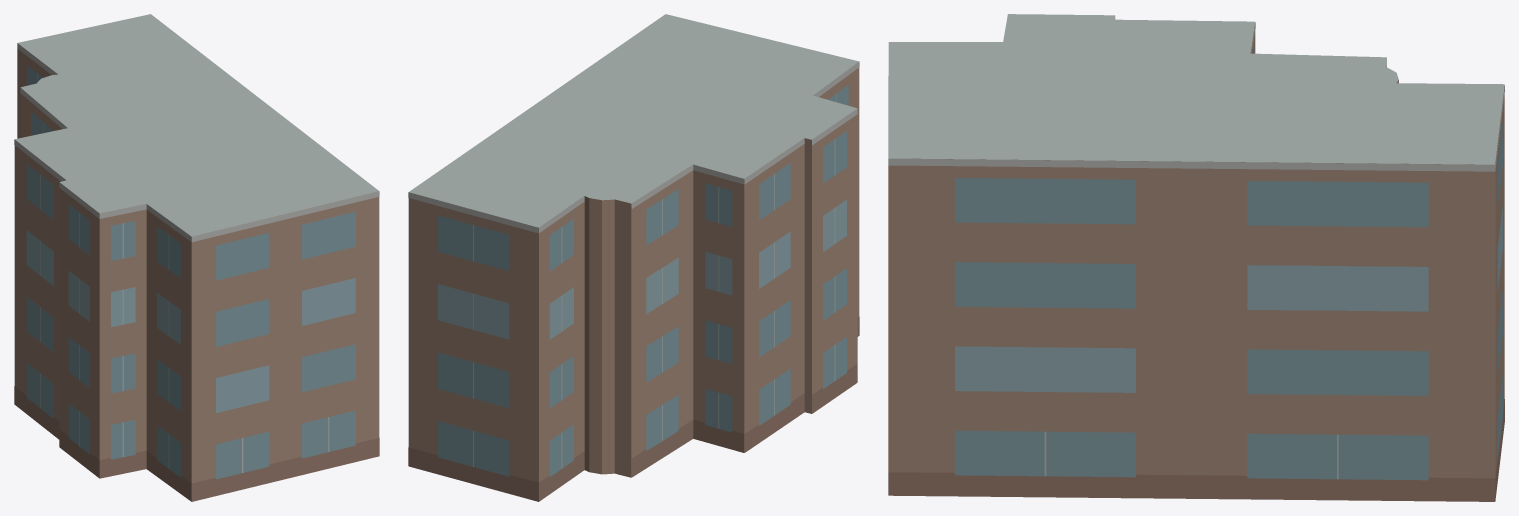
The model's file is survey-upis-32617385.glb.
3 renders of one model, left to right at view 1: azimuth 30°, elevation 25°; view 2: azimuth 150°, elevation 25°; view 3: azimuth 270°, elevation 25°, orthographic. The views are drawn at different scales.
Visible parts, largest first — view 1: survey-upis-32617385.tmp; view 2: survey-upis-32617385.tmp; view 3: survey-upis-32617385.tmp.
Part boxes in pixels (bbox=[...]): survey-upis-32617385.tmp: bbox=[14, 14, 379, 501]; survey-upis-32617385.tmp: bbox=[408, 14, 859, 501]; survey-upis-32617385.tmp: bbox=[888, 14, 1504, 501].
Bounding box in the file's own units: 11.22 × 11.7 × 19.4.
